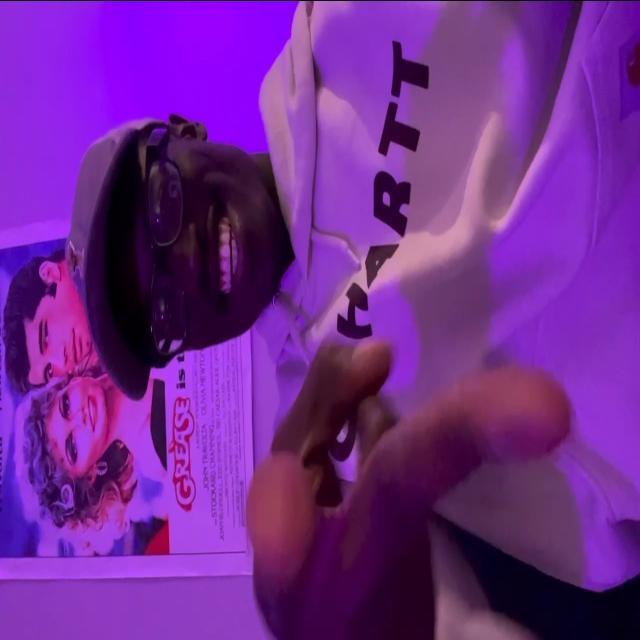Scissors: (245, 328, 577, 640)
